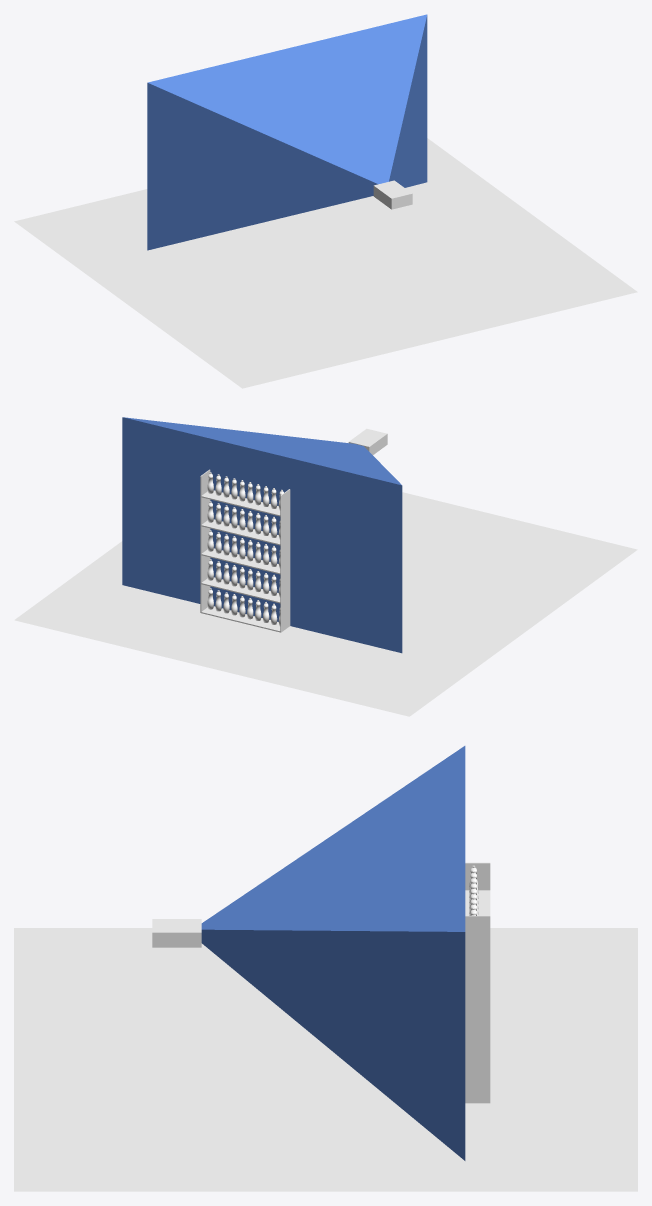
File: SET_15_Botellas.obj
The picture shows the model from 3 angles, top to bottom: view 1: azimuth 30°, elevation 25°; view 2: azimuth 150°, elevation 25°; view 3: azimuth 270°, elevation 25°; orthographic projection. The views are drawn at different scales.
Parts seen in each view (by area): view 1: Mesh2 Component_9_1 Model, Mesh3 Component_67_1 Component_66_1 Component_65_1 Model, Mesh4 Component_6_1 Component_66_1 Component_65_1 Model; view 2: Mesh2 Component_9_1 Model, Mesh3 Component_67_1 Component_66_1 Component_65_1 Model, Mesh61 Component_100_1 Model, Mesh60 Component_100_1 Model, Mesh38 Component_98_4 Component_99_4 Component_100_1 Model, Mesh49 Component_98_5 Component_99_5 Component_100_1 Model, Mesh5 Component_98_1 Component_99_1 Component_100_1 Model, Mesh27 Component_98_3 Component_99_3 Component_100_1 Model, Mesh16 Component_98_2 Component_99_2 Component_100_1 Model, Mesh4 Component_6_1 Component_66_1 Component_65_1 Model; view 3: Mesh2 Component_9_1 Model, Mesh3 Component_67_1 Component_66_1 Component_65_1 Model, Mesh60 Component_100_1 Model, Mesh4 Component_6_1 Component_66_1 Component_65_1 Model.
Boxes of the visible parts, x1,y1,x2,y2 form: Mesh2 Component_9_1 Model: [14, 138, 637, 388]; Mesh3 Component_67_1 Component_66_1 Component_65_1 Model: [147, 14, 427, 250]; Mesh4 Component_6_1 Component_66_1 Component_65_1 Model: [373, 180, 412, 209]; Mesh2 Component_9_1 Model: [14, 492, 637, 716]; Mesh3 Component_67_1 Component_66_1 Component_65_1 Model: [122, 417, 402, 653]; Mesh61 Component_100_1 Model: [280, 489, 290, 632]; Mesh60 Component_100_1 Model: [200, 469, 210, 612]; Mesh38 Component_98_4 Component_99_4 Component_100_1 Model: [201, 490, 280, 516]; Mesh49 Component_98_5 Component_99_5 Component_100_1 Model: [201, 577, 280, 603]; Mesh5 Component_98_1 Component_99_1 Component_100_1 Model: [201, 519, 280, 545]; Mesh27 Component_98_3 Component_99_3 Component_100_1 Model: [201, 606, 280, 632]; Mesh16 Component_98_2 Component_99_2 Component_100_1 Model: [201, 548, 280, 574]; Mesh4 Component_6_1 Component_66_1 Component_65_1 Model: [348, 428, 387, 454]; Mesh2 Component_9_1 Model: [14, 928, 637, 1191]; Mesh3 Component_67_1 Component_66_1 Component_65_1 Model: [201, 746, 465, 1160]; Mesh60 Component_100_1 Model: [465, 916, 490, 1103]; Mesh4 Component_6_1 Component_66_1 Component_65_1 Model: [152, 919, 201, 947].
Bounding box in the file's own units: 5000 × 2031 × 5000.
